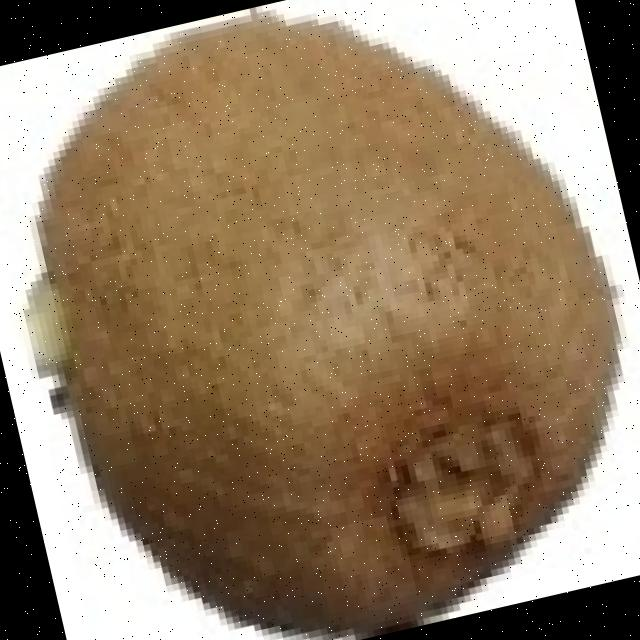kiwi: (39, 9, 623, 617)
